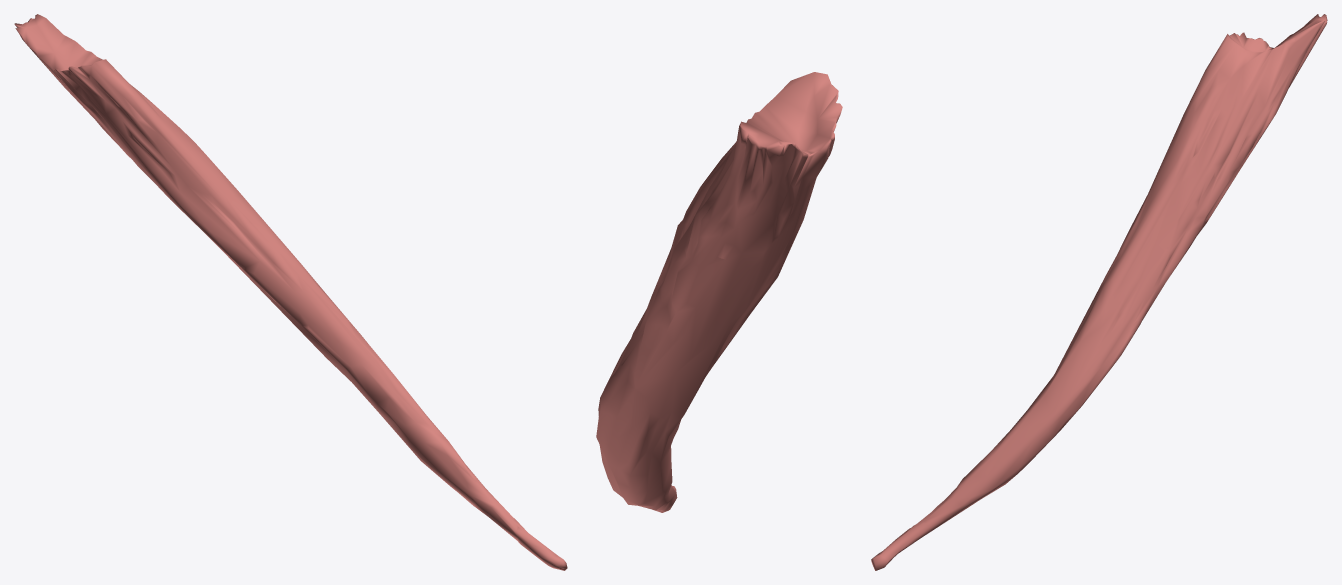
3 views of the same model, side by side, from view 1: azimuth 30°, elevation 25°; view 2: azimuth 150°, elevation 25°; view 3: azimuth 270°, elevation 25° (orthographic). The views are drawn at different scales.
Visible parts, largest first — view 1: ZA_07a7d535beb38818; view 2: ZA_07a7d535beb38818; view 3: ZA_07a7d535beb38818.
Part boxes in pixels (left/top/right/bottom): ZA_07a7d535beb38818: left=14, top=14, right=567, bottom=570; ZA_07a7d535beb38818: left=596, top=72, right=842, bottom=512; ZA_07a7d535beb38818: left=871, top=14, right=1327, bottom=570.
Bounding box in the file's own units: 0.0469 × 0.0641 × 0.0631.
